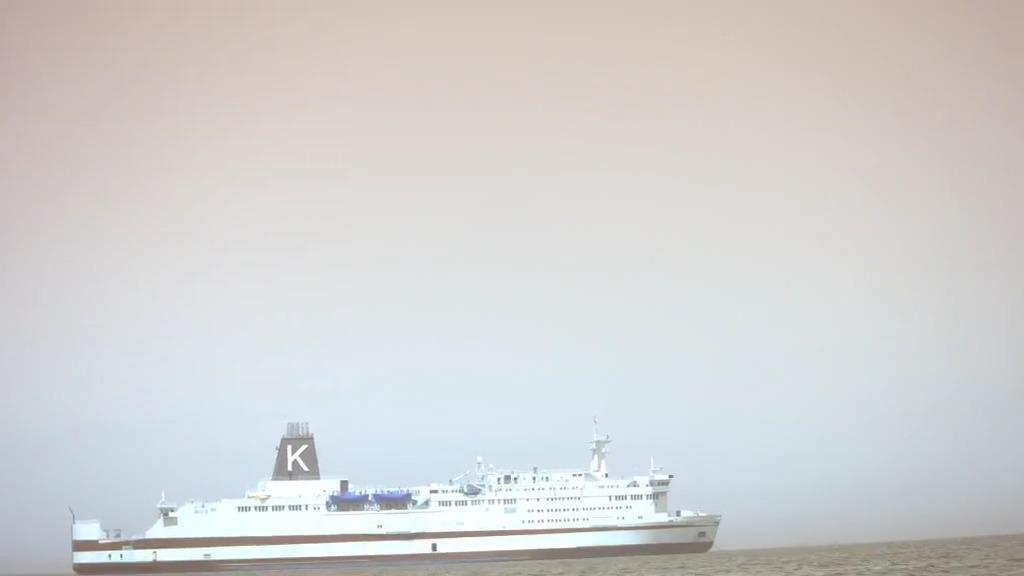PassengerShip: (66, 420, 728, 576)
